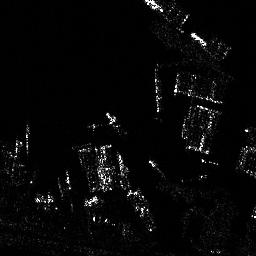ship: (106, 110, 126, 137), (154, 62, 163, 113)
